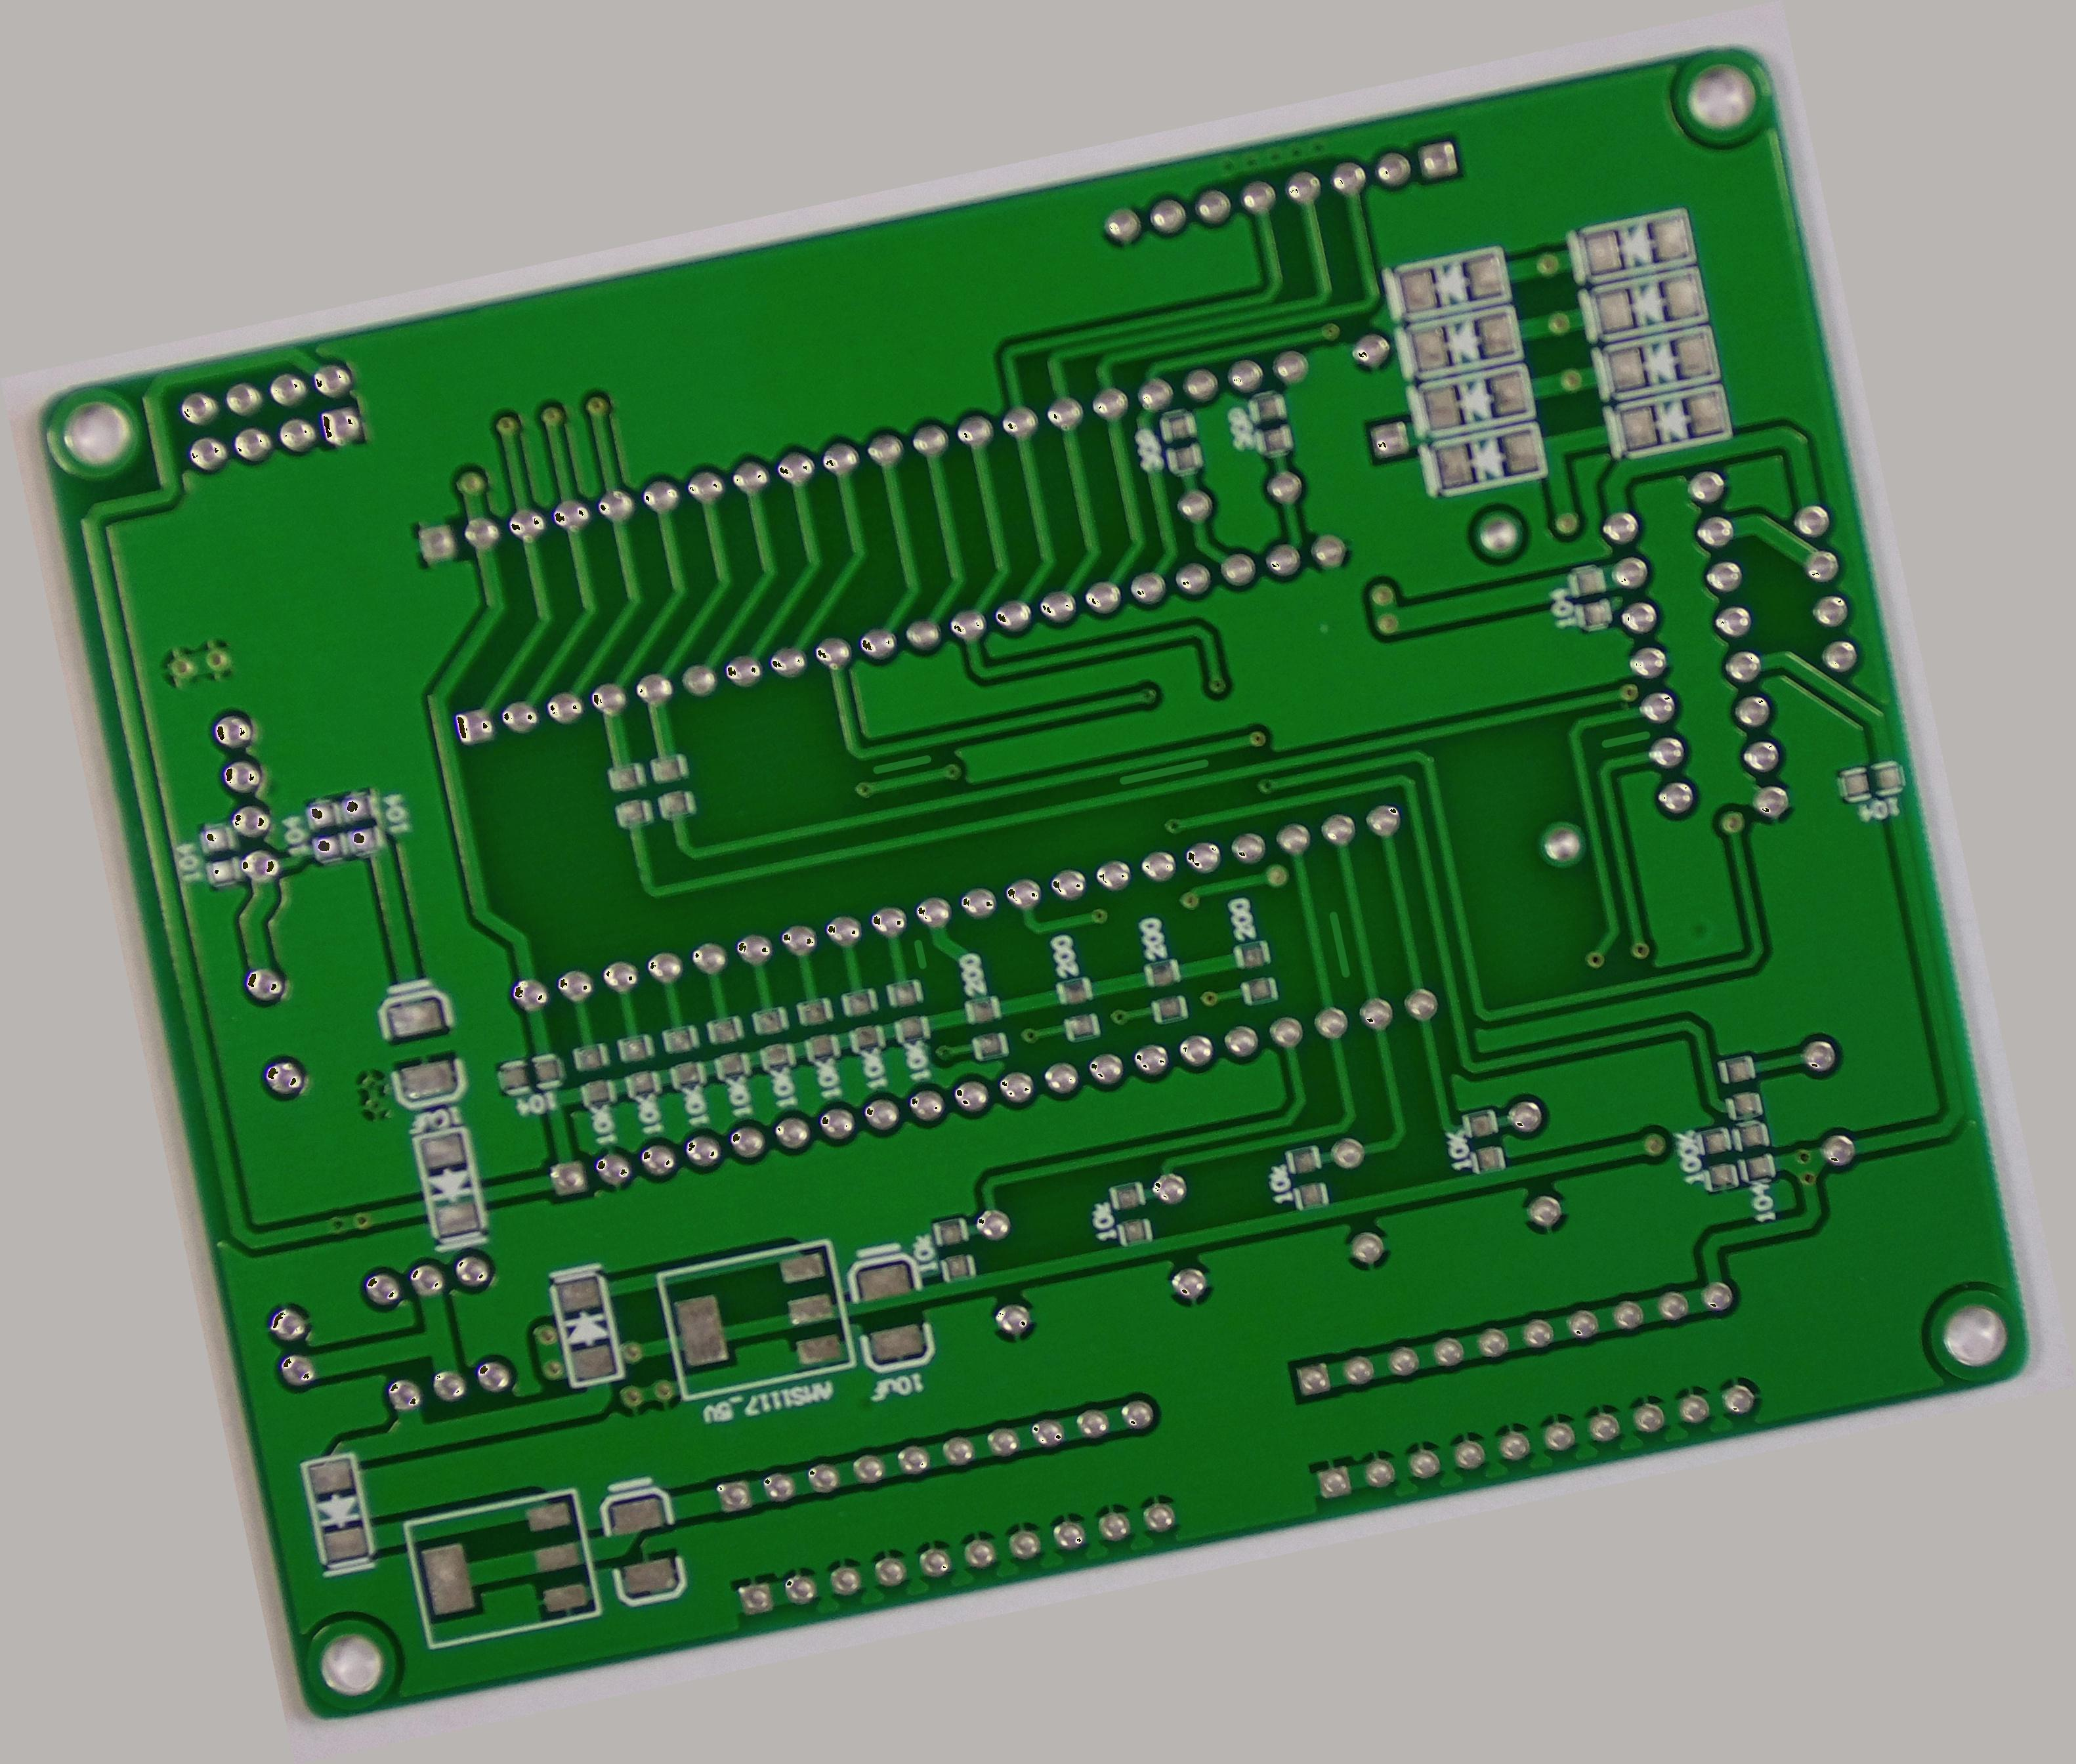spurious_copper: (1103, 738, 1222, 808), (856, 733, 949, 793), (1309, 898, 1367, 987), (1588, 714, 1666, 766), (896, 927, 940, 976)
